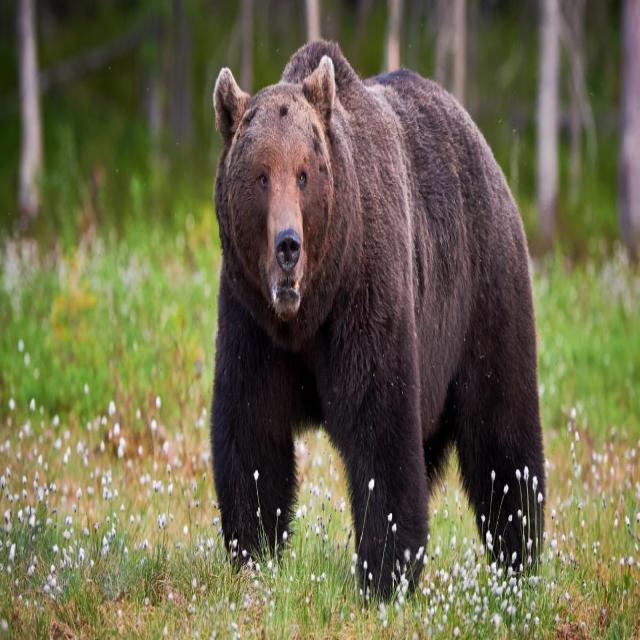Bear: (209, 40, 548, 604)
